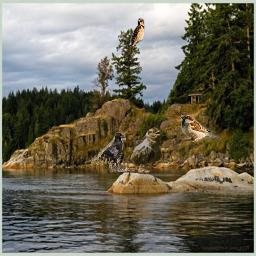Crow: (91, 132, 126, 172)
Sparrow: (130, 127, 162, 167), (181, 115, 221, 142)
Swallow: (130, 18, 145, 58)
